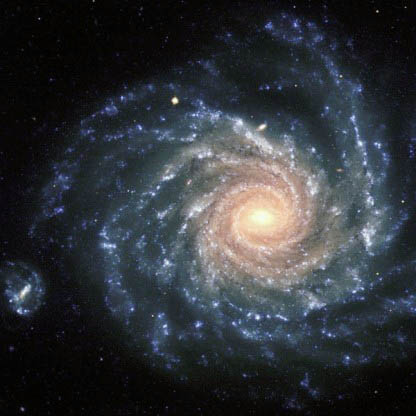NGC 1232: (9, 15, 406, 394)
